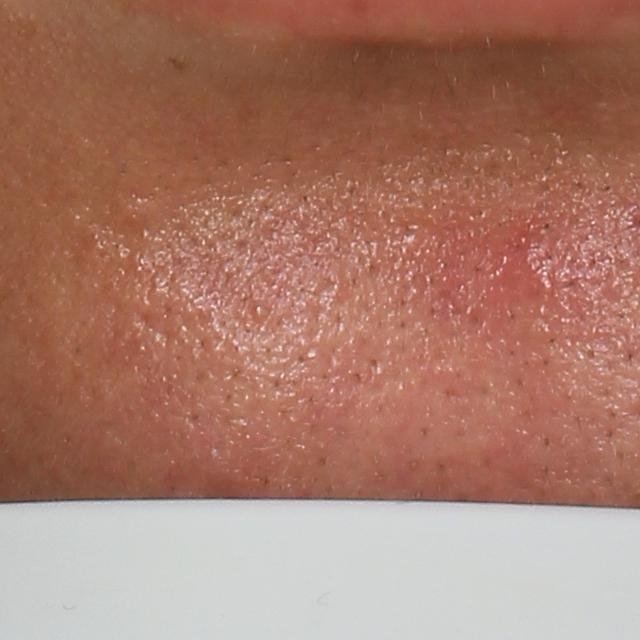comedo: (247, 299, 273, 325)
